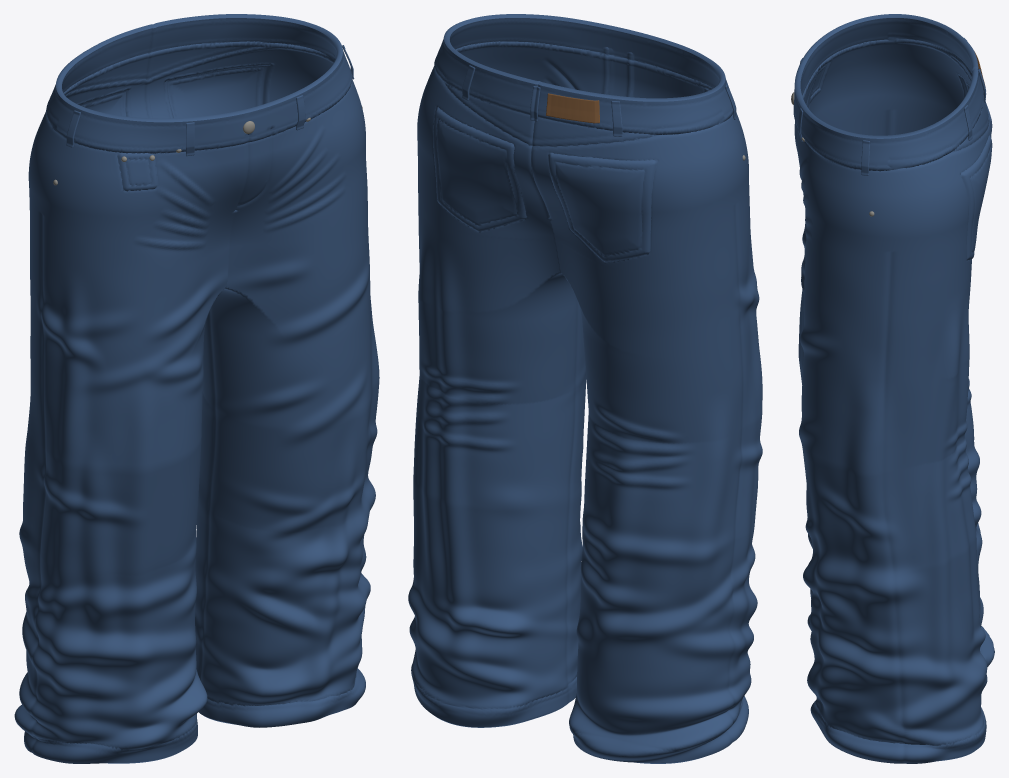
The model's file is 19_vaquero_baggy.glb.
3 renders of one model, left to right at view 1: azimuth 30°, elevation 25°; view 2: azimuth 150°, elevation 25°; view 3: azimuth 270°, elevation 25°, orthographic. The views are drawn at different scales.
Visible parts, largest first — view 1: body; view 2: body, trim; view 3: body.
Boxes of the visible parts, bbox=[...] form: body: bbox=[14, 14, 379, 763]; body: bbox=[408, 14, 762, 763]; trim: bbox=[546, 93, 599, 123]; body: bbox=[793, 14, 994, 763].
Size of the model in its own units: 0.5059 by 0.9769 by 0.2839.
